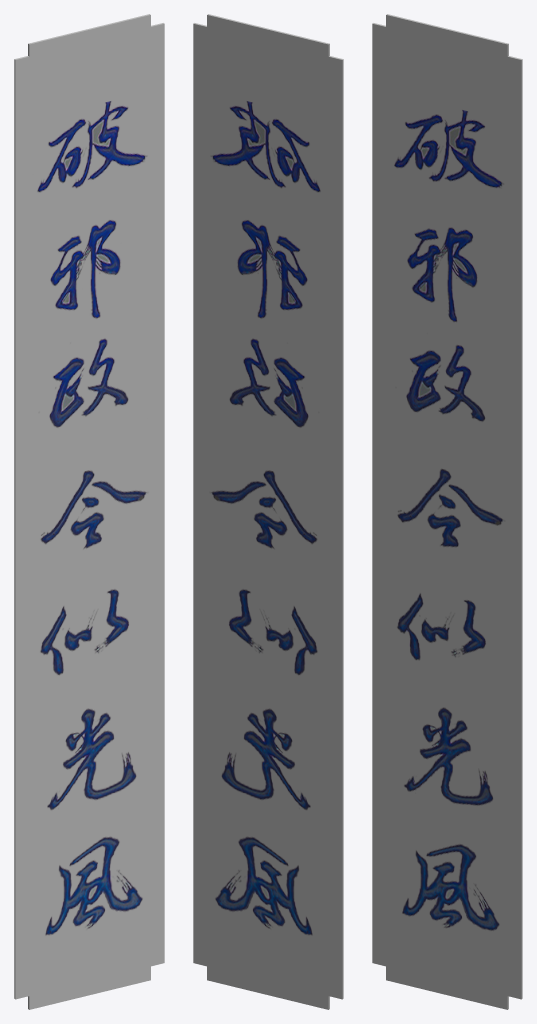
File: SM_Unhyun_Iro_Joo_I001.fbx
3 renders of one model, left to right at view 1: azimuth 30°, elevation 25°; view 2: azimuth 150°, elevation 25°; view 3: azimuth 330°, elevation 25°, orthographic.
Parts seen in each view (by area): view 1: SM_Unhyun_Iro_Joo_I001; view 2: SM_Unhyun_Iro_Joo_I001; view 3: SM_Unhyun_Iro_Joo_I001.
Part boxes in pixels (left/top/right/bottom): SM_Unhyun_Iro_Joo_I001: left=14, top=14, right=164, bottom=1009; SM_Unhyun_Iro_Joo_I001: left=193, top=14, right=343, bottom=1009; SM_Unhyun_Iro_Joo_I001: left=372, top=14, right=522, bottom=1009.
Size of the model in its own units: 14.56 by 90.01 by 0.2.
